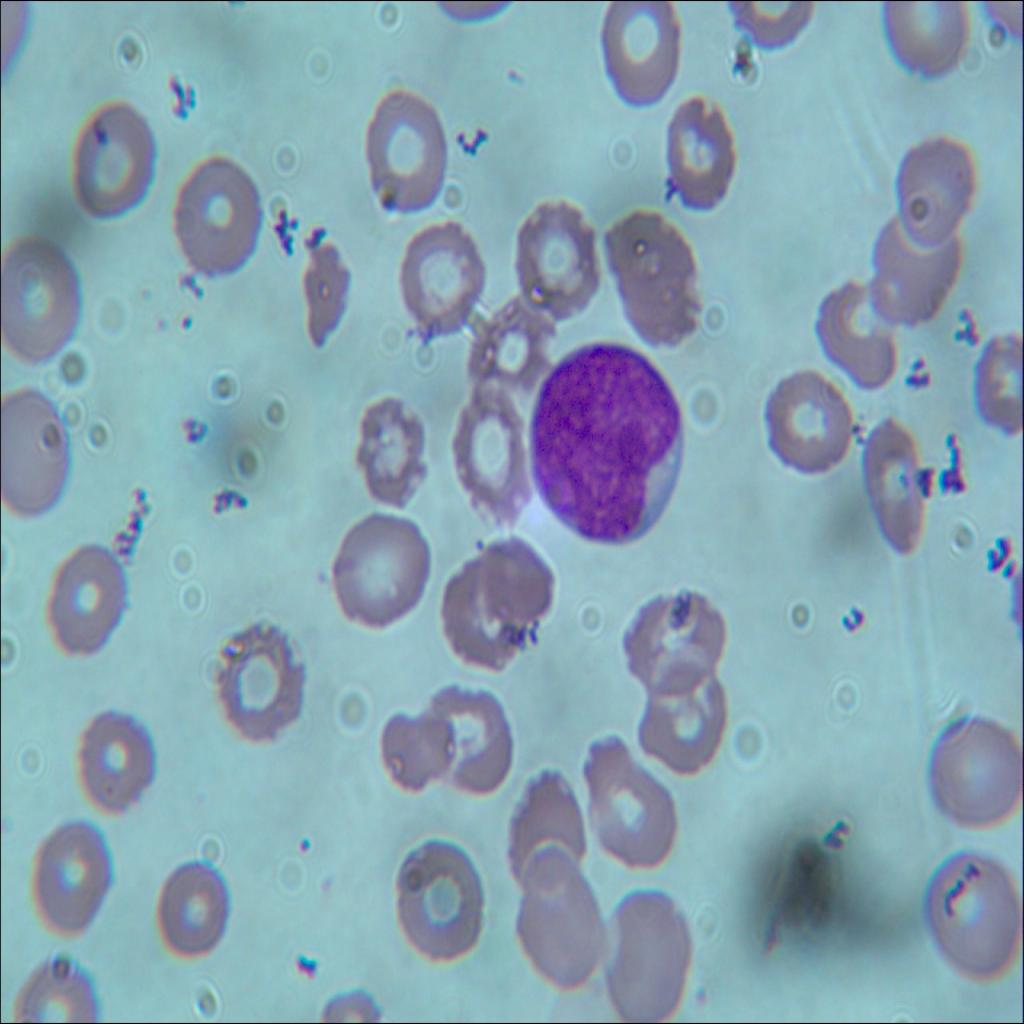Eritrosit: (576, 738, 679, 878), (598, 210, 704, 346), (924, 844, 1023, 989), (596, 879, 693, 1023), (511, 845, 611, 984), (206, 618, 308, 744), (446, 382, 534, 528), (646, 88, 746, 212), (619, 586, 728, 696), (170, 159, 266, 282), (66, 104, 159, 230), (758, 362, 858, 479), (334, 505, 430, 625), (928, 707, 1023, 828), (393, 842, 484, 968), (870, 208, 962, 332), (28, 812, 118, 938), (856, 417, 934, 562), (0, 239, 86, 370), (429, 681, 521, 802), (46, 534, 128, 668), (811, 272, 896, 401), (395, 218, 484, 338), (508, 200, 598, 317), (894, 132, 979, 254), (453, 298, 546, 404), (428, 552, 514, 666), (72, 702, 166, 805), (364, 95, 449, 208), (639, 674, 733, 776), (508, 770, 589, 885), (0, 384, 68, 518), (156, 858, 235, 964), (601, 0, 675, 112), (356, 392, 429, 504), (375, 704, 453, 798), (877, 0, 976, 71), (476, 544, 558, 627)
Limfoblast: (528, 335, 690, 551)
Platelet: (292, 829, 322, 865), (178, 307, 198, 338)
